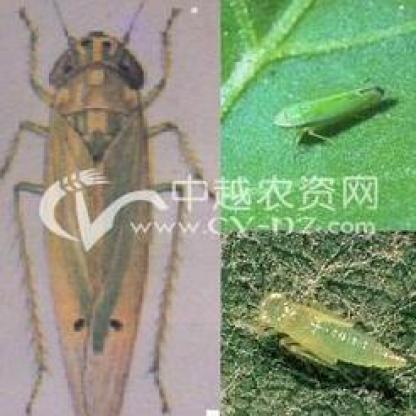Green-Leafhopper: (4, 0, 222, 416), (259, 292, 407, 375), (273, 84, 390, 144)
